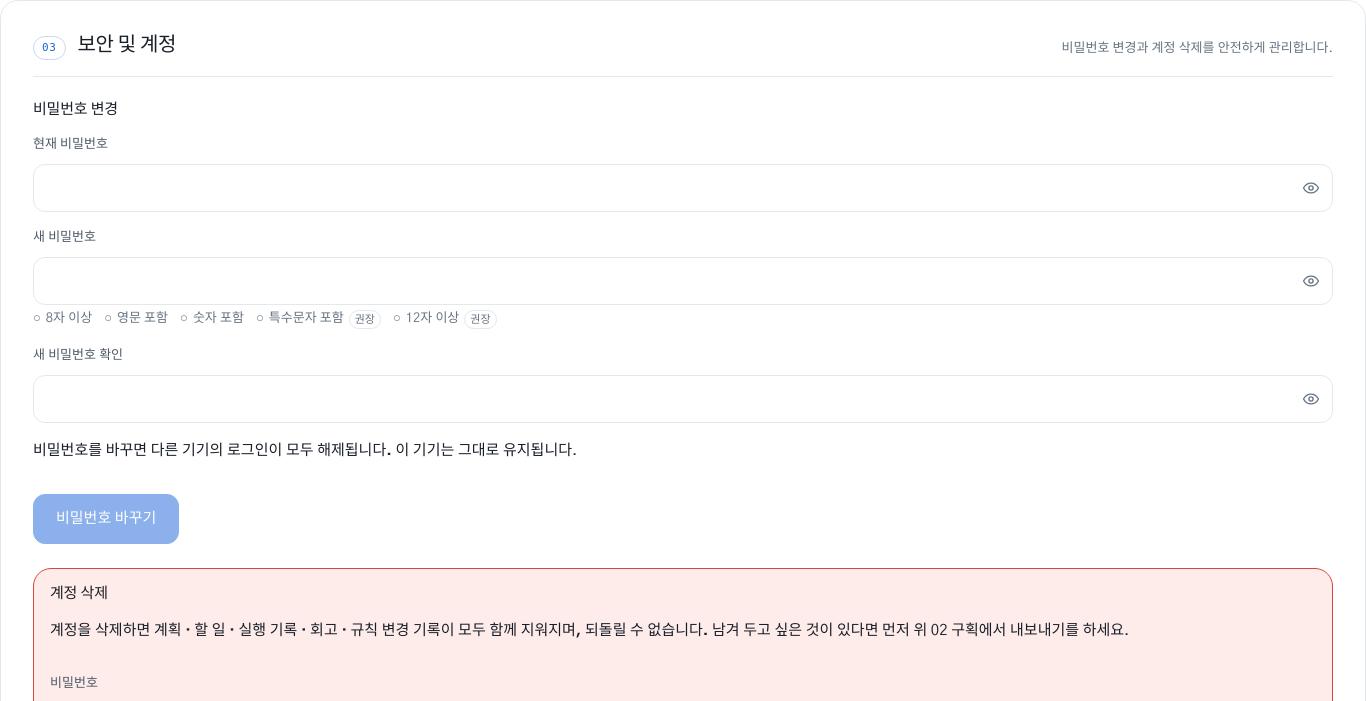
Scenario: 비밀번호 변경 › 서버가 거절하면 그 문구를 그대로 보여 준다
Type "틀린-비밀번호-1234" into the password field labelled "현재 비밀번호".
click(683, 188); type("틀린-비밀번호-1234")  # box [33,164,1333,212]
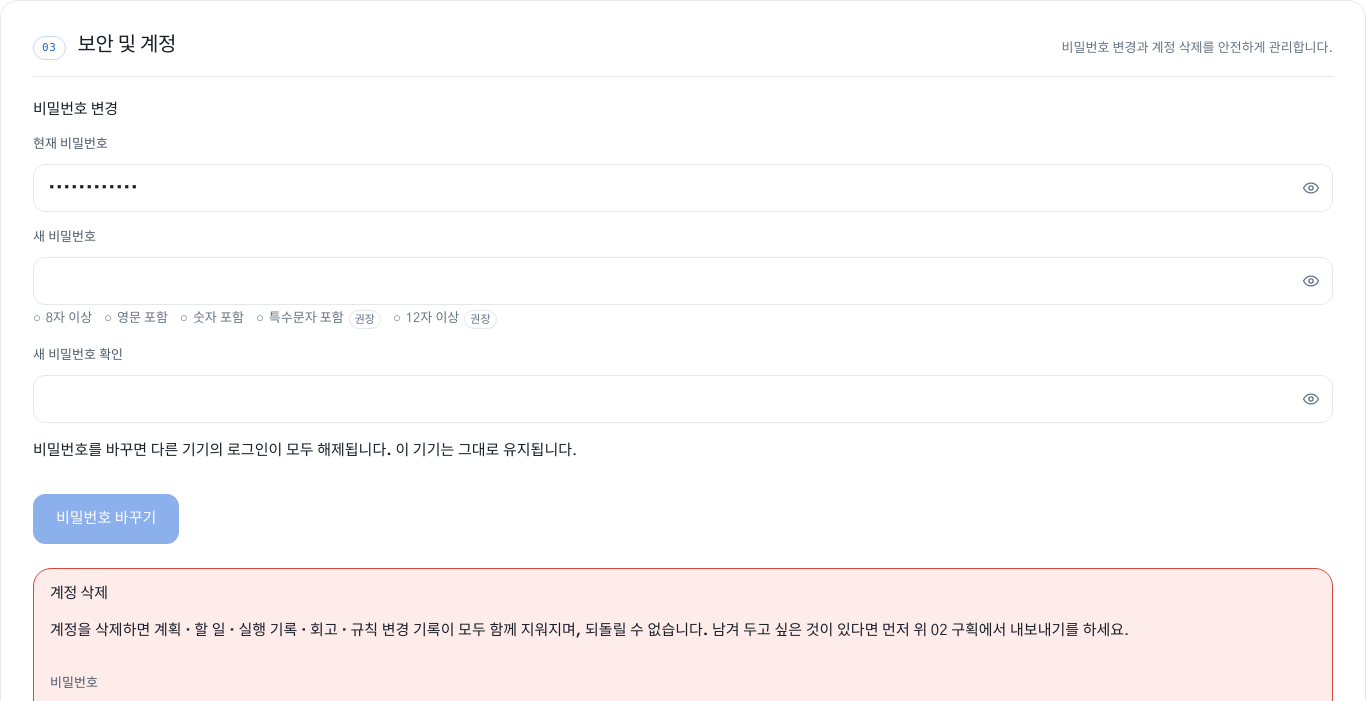
Type "합성-새-비밀번호-8d31" into the password field labelled "새 비밀번호".
click(683, 281); type("합성-새-비밀번호-8d31")  # box [33,257,1333,305]
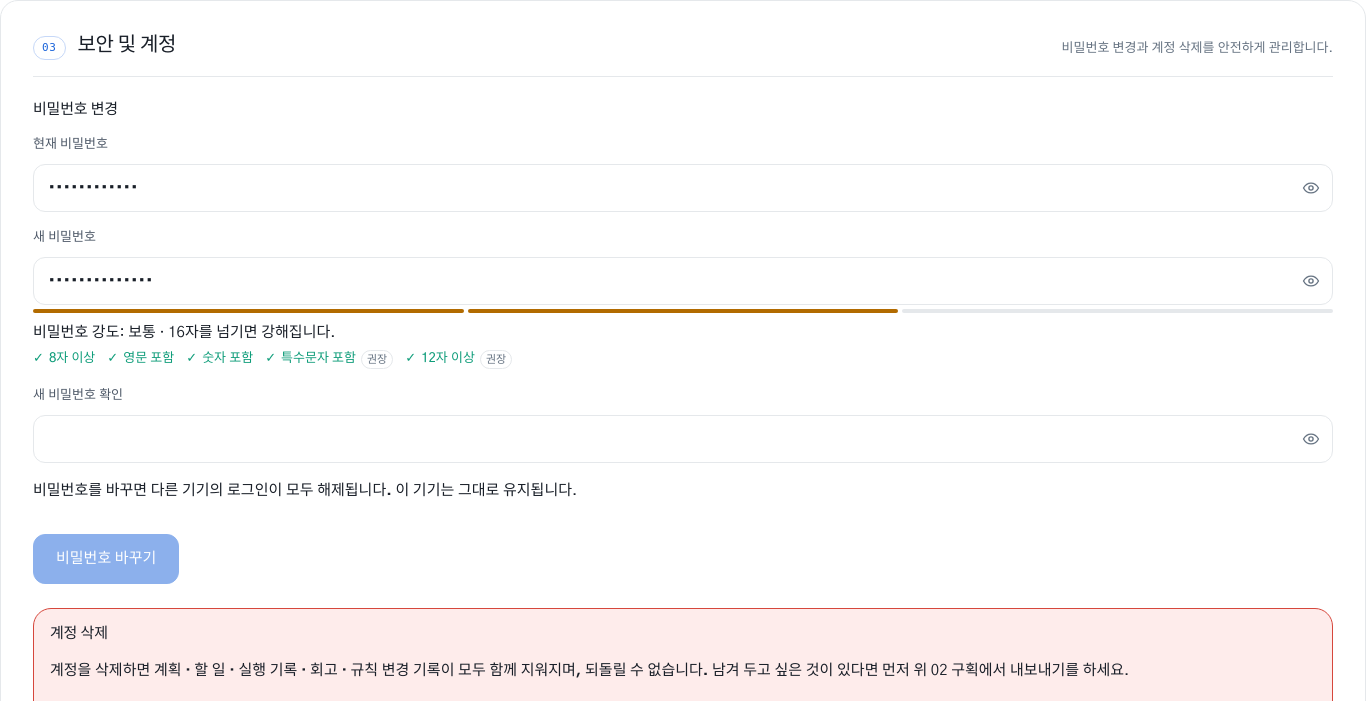
Type "합성-새-비밀번호-8d31" into the password field labelled "새 비밀번호 확인".
click(683, 438); type("합성-새-비밀번호-8d31")  # box [33,414,1333,462]
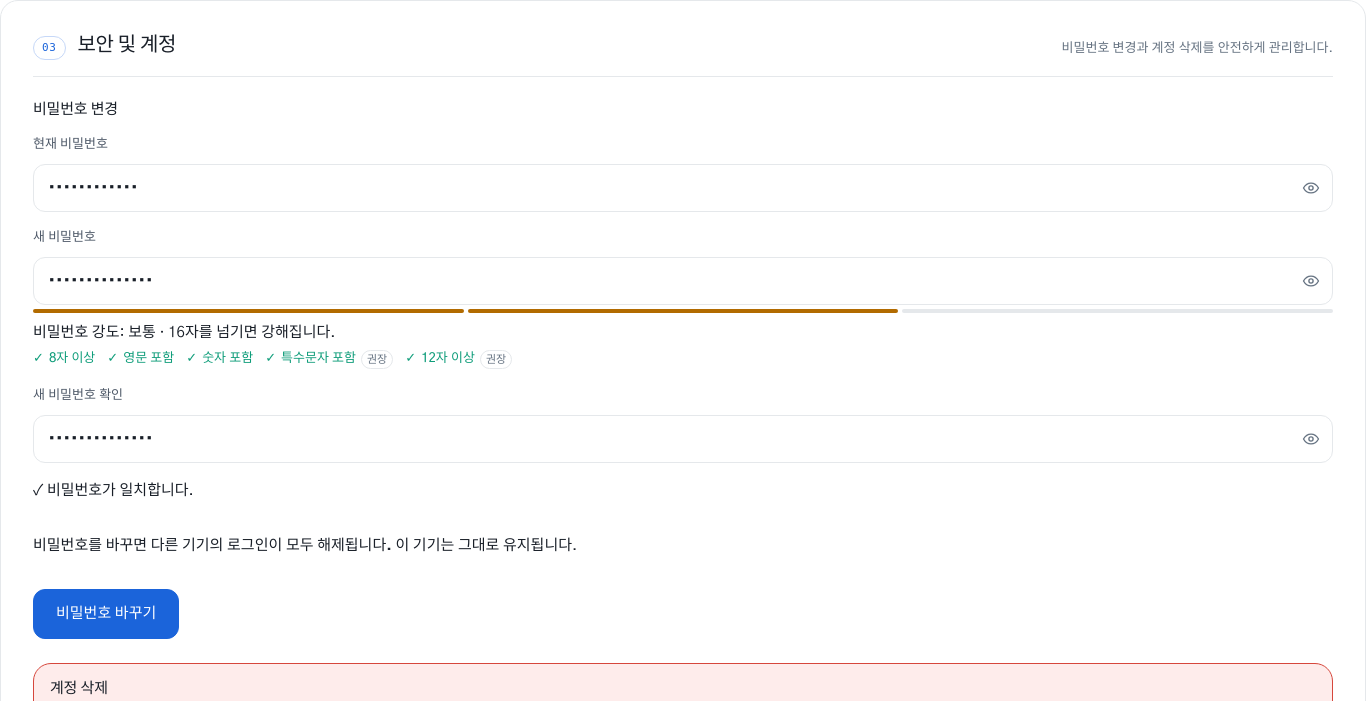
Click the button "비밀번호 바꾸기".
click(106, 614)  # box [33,588,179,638]
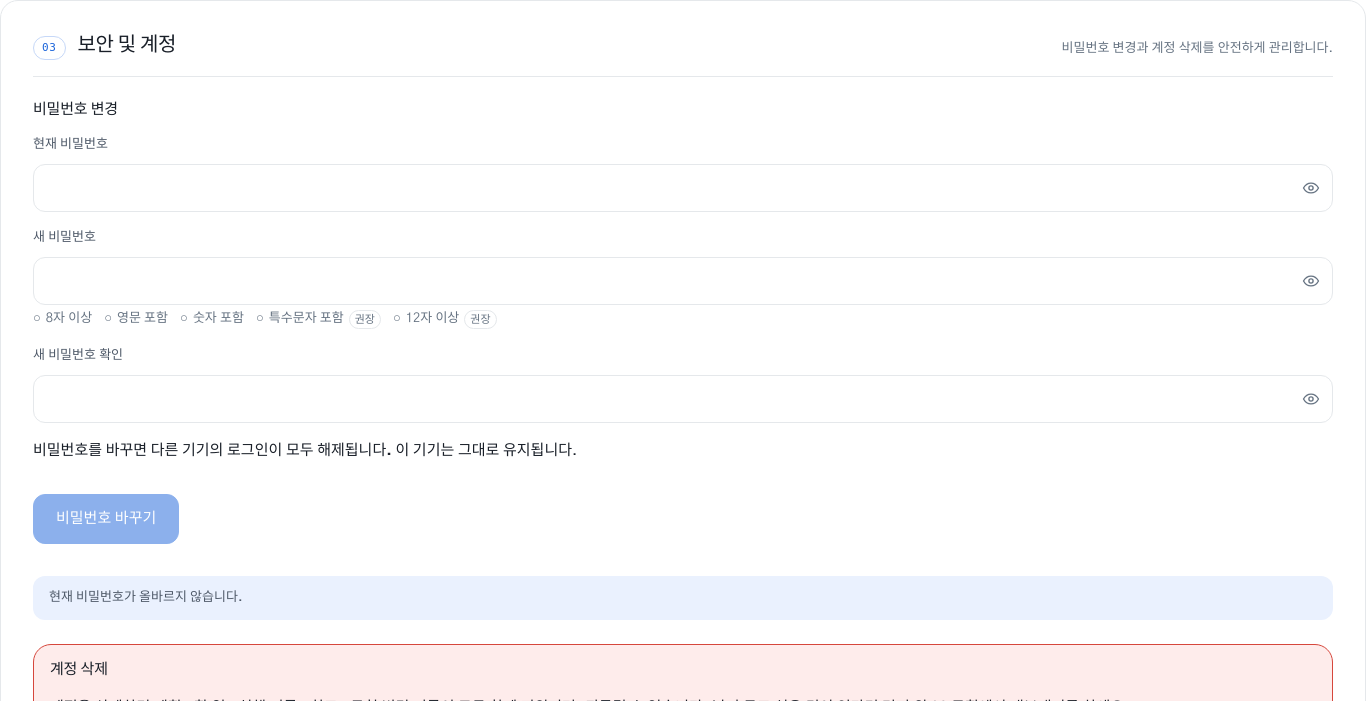
Check: the message reads "현재 비밀번호가 올바르지 않습니다.", box [49,590,242,604]
